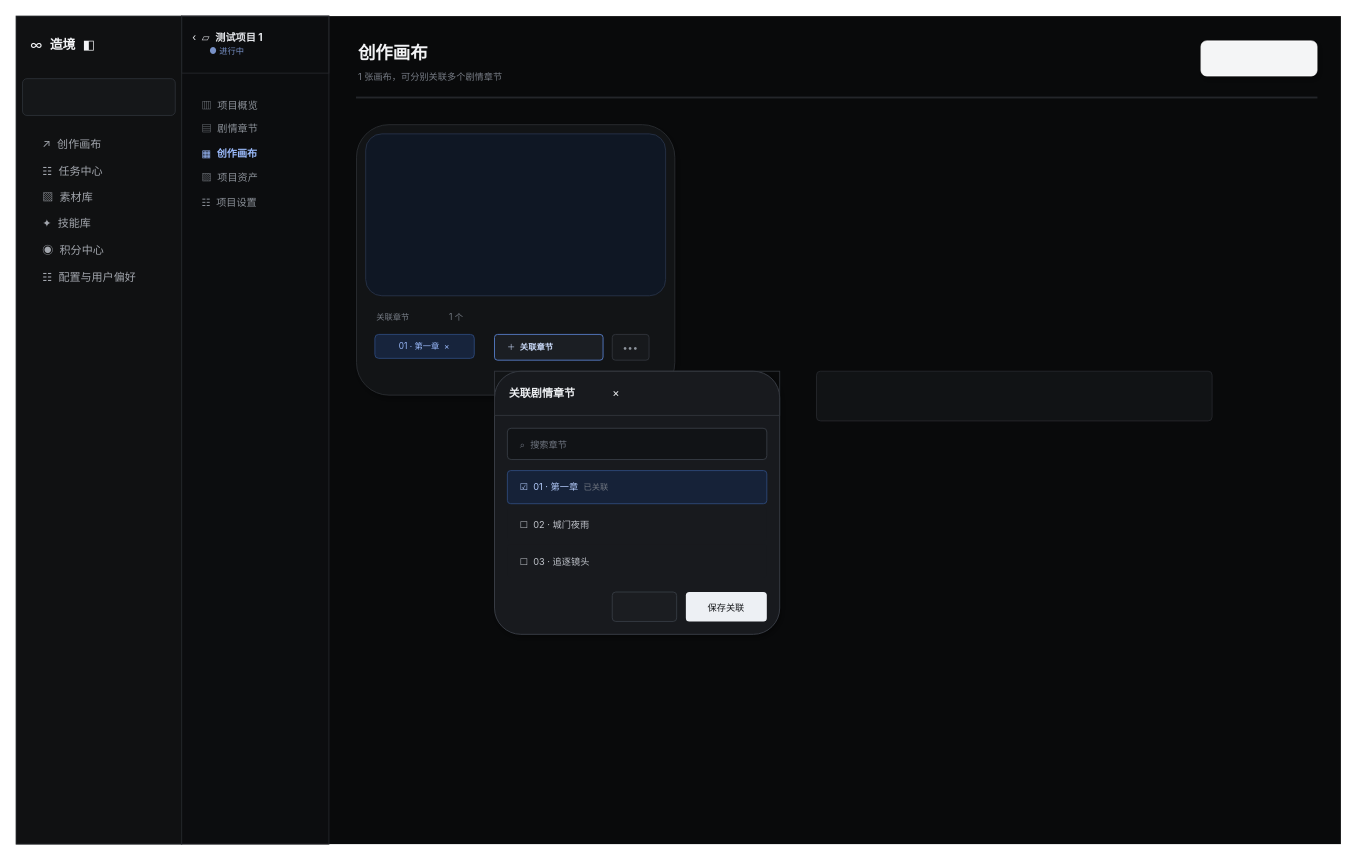
Some shapes in this 1357 by 860 pixel diagram are drawn without their labels. Each missing label, with the centre of its shape:
▣ 项目中心: point (98, 96)
交互变化：原来的 Select 改成可搜索多选浮层；一次保存多个关联，写操作失败时保留浮层并显示行内错误。: point (1014, 395)
取消: point (644, 606)
画布 01 111 更新于 07/24 22:24: point (515, 214)
＋ 新建画布: point (1259, 59)
